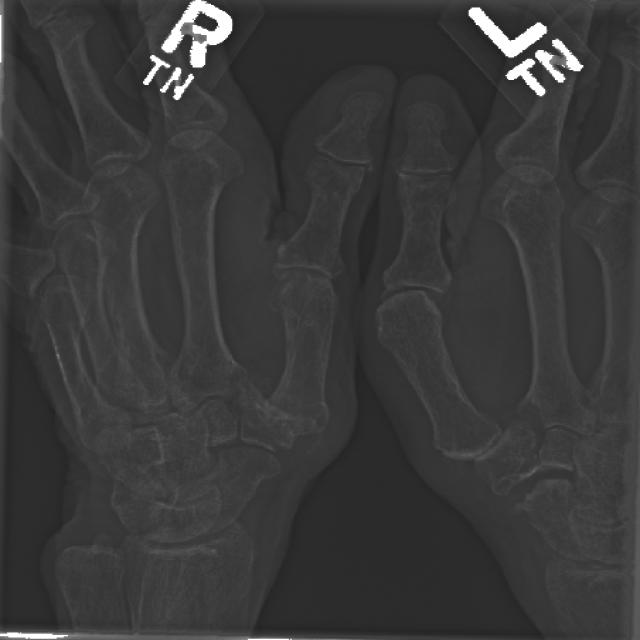fingers positive: (334, 80, 392, 134), (414, 413, 507, 444)
